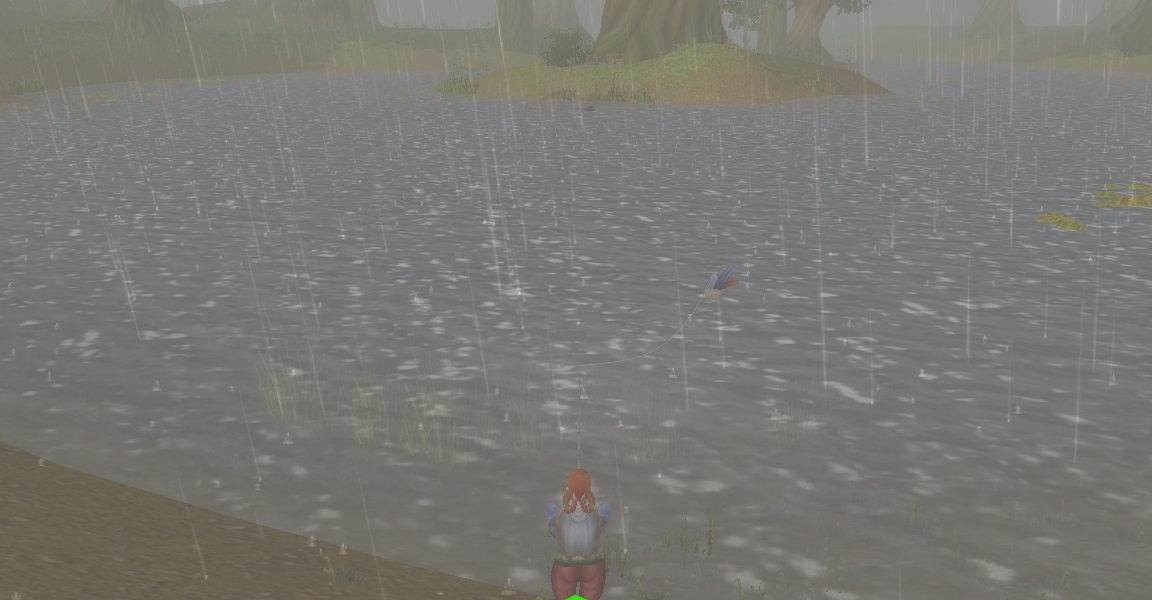Bobber: (704, 268, 743, 301)
